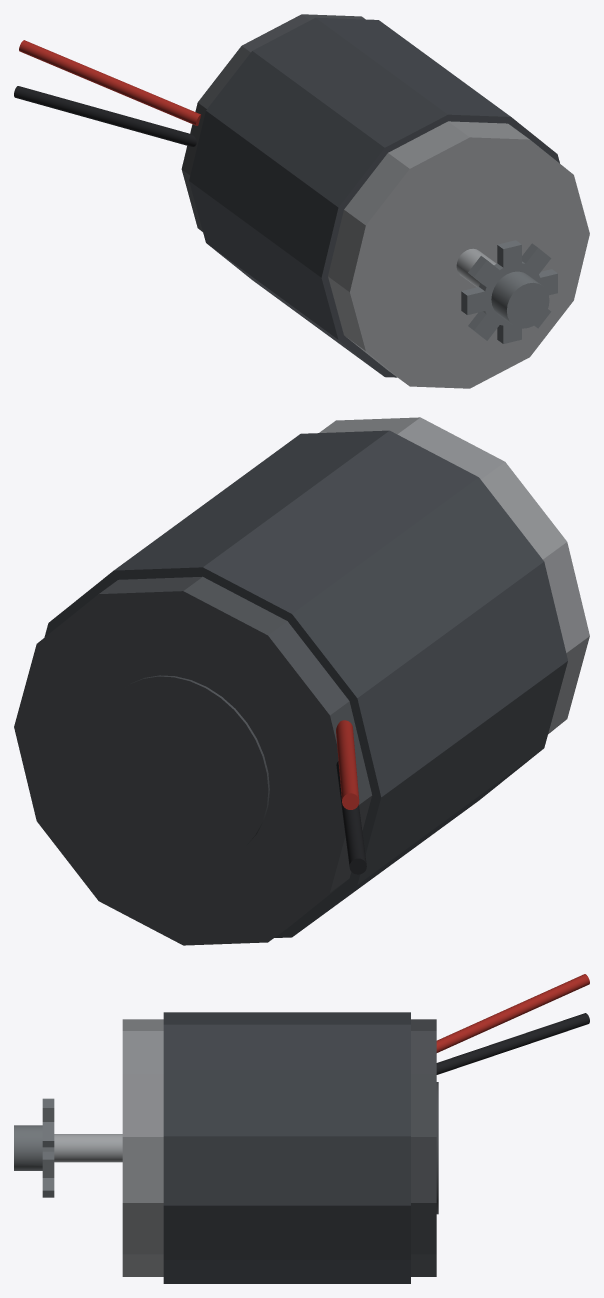
3 renders of one model, top to bottom at view 1: azimuth 30°, elevation 25°; view 2: azimuth 150°, elevation 25°; view 3: azimuth 270°, elevation 25°, orthographic. The views are drawn at different scales.
Visible parts, largest first — view 1: housing, front_band, wheel_root, rear_cover, red_lead, black_lead, axle; view 2: housing, rear_cover, front_band, red_lead, black_lead; view 3: housing, front_band, rear_cover, wheel_root, red_lead, axle, black_lead.
Boxes of the visible parts, <box> form: housing: <box>189,17,559,377</box>; front_band: <box>328,121,589,388</box>; wheel_root: <box>461,240,557,343</box>; rear_cover: <box>181,14,365,231</box>; red_lead: <box>19,40,200,125</box>; black_lead: <box>14,86,196,146</box>; axle: <box>456,248,496,287</box>; housing: <box>44,430,567,937</box>; rear_cover: <box>14,576,372,945</box>; front_band: <box>319,417,589,734</box>; red_lead: <box>336,720,359,809</box>; black_lead: <box>336,761,366,874</box>; housing: <box>163,1012,410,1283</box>; front_band: <box>122,1019,163,1276</box>; rear_cover: <box>411,1019,438,1276</box>; wheel_root: <box>14,1098,54,1197</box>; red_lead: <box>436,974,589,1052</box>; axle: <box>54,1134,122,1162</box>; black_lead: <box>436,1013,589,1074</box>.
Size of the model in its own units: 0.0628 by 0.0474 by 0.1001.
